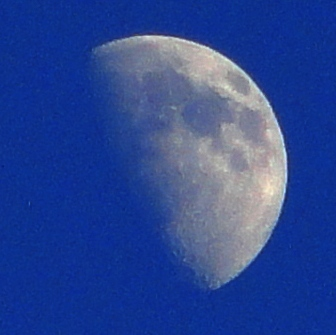crater: (214, 160, 232, 178), (180, 252, 200, 265), (167, 101, 181, 112), (194, 101, 204, 116)
